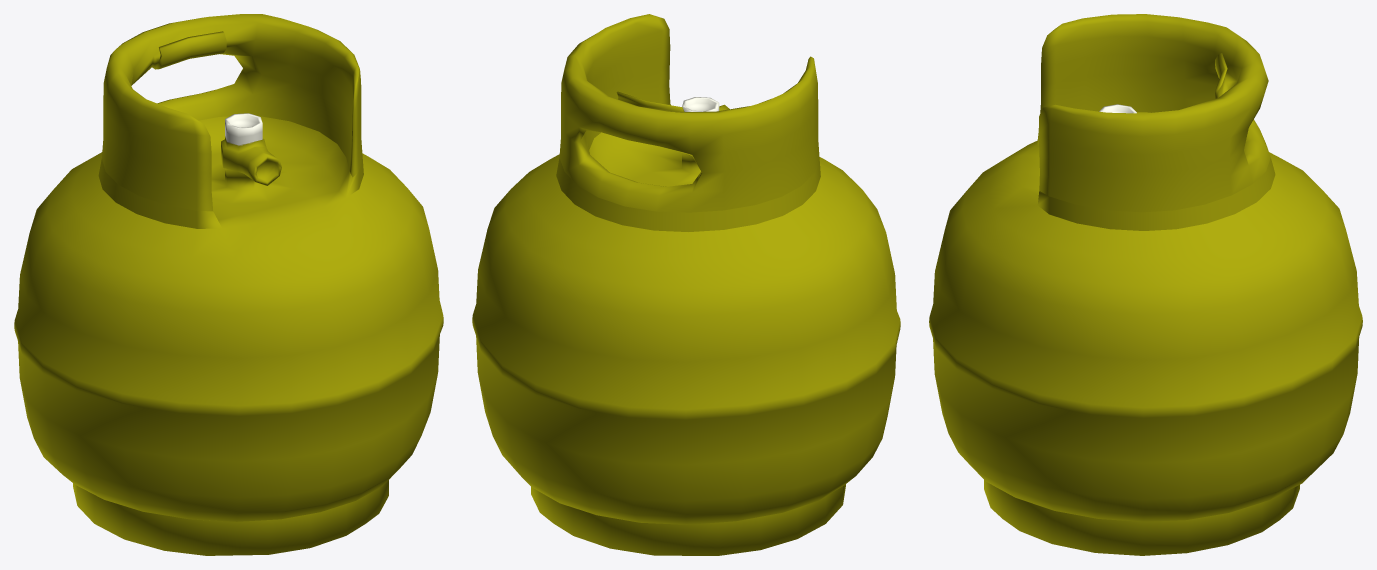
File: Lpg.fbx
3 renders of one model, left to right at view 1: azimuth 30°, elevation 25°; view 2: azimuth 150°, elevation 25°; view 3: azimuth 270°, elevation 25°, orthographic.
Parts seen in each view (by area): view 1: LPG; view 2: LPG; view 3: LPG.
Boxes of the visible parts, bbox=[...] form: LPG: bbox=[14, 14, 443, 555]; LPG: bbox=[472, 14, 900, 555]; LPG: bbox=[929, 14, 1362, 555].
Size of the model in its own units: 0.5307 by 0.5766 by 0.5307.
1 material, 1 textured.
